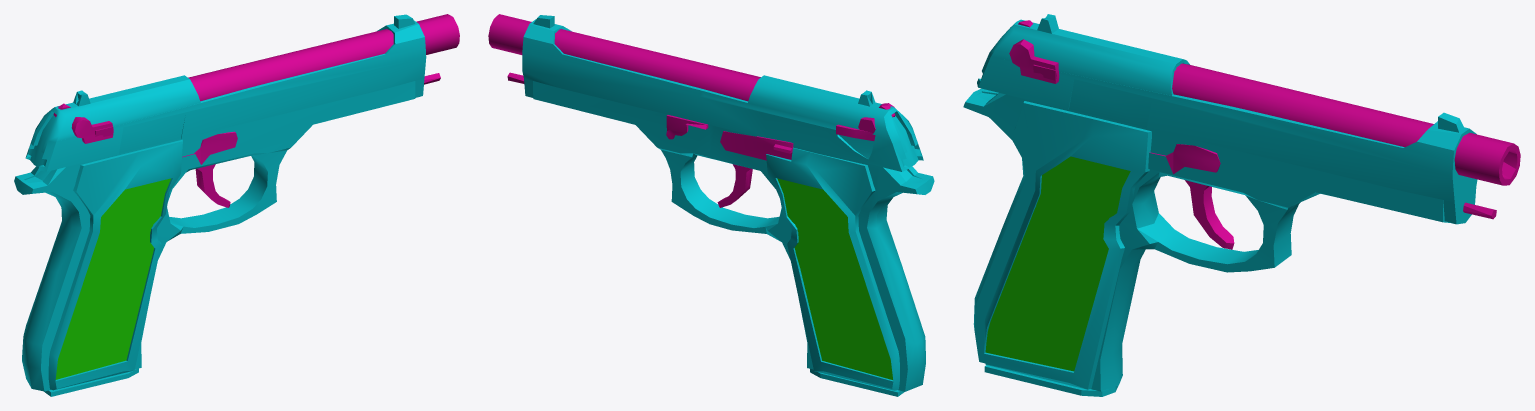
The picture shows the model from 3 angles, left to right: view 1: azimuth 30°, elevation 25°; view 2: azimuth 150°, elevation 25°; view 3: azimuth 330°, elevation 25°; orthographic projection. The views are drawn at different scales.
Visible parts, largest first — view 1: Baretta_Base, Baretta_top, Trigger, Clip; view 2: Baretta_Base, Baretta_top, Trigger, Clip; view 3: Baretta_Base, Baretta_top, Trigger, Clip.
Part boxes in pixels (box(x1,y1,x2,y2)): Baretta_Base: box(14, 14, 459, 391); Baretta_top: box(25, 14, 426, 171); Trigger: box(195, 164, 230, 207); Clip: box(44, 368, 138, 396); Baretta_Base: box(488, 14, 934, 391); Baretta_top: box(522, 15, 923, 171); Trigger: box(717, 164, 752, 207); Clip: box(810, 369, 904, 396); Baretta_Base: box(963, 20, 1520, 391); Baretta_top: box(977, 14, 1477, 224); Trigger: box(1185, 180, 1234, 249); Clip: box(984, 365, 1118, 396).
Size of the model in its own units: 43.26 by 27.5 by 4.54.
